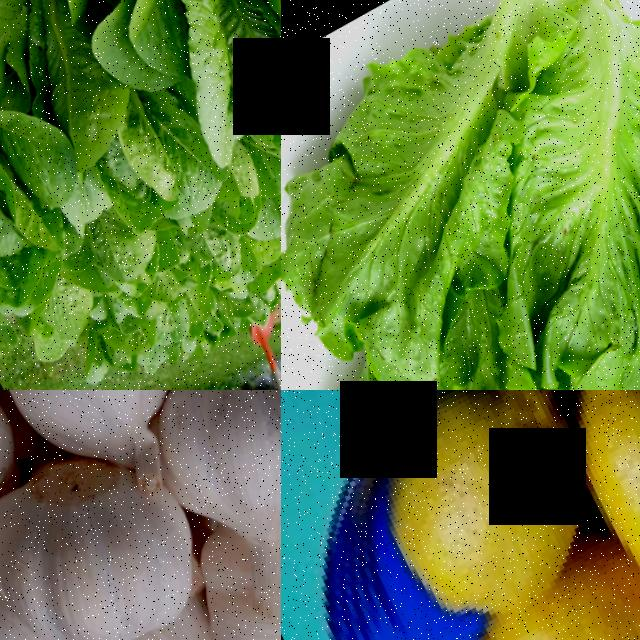garlic: (0, 433, 226, 640), (149, 390, 281, 593), (0, 390, 204, 486), (178, 518, 281, 640)
lemon: (352, 390, 632, 640), (546, 390, 640, 640), (461, 540, 640, 640)
lettuce: (281, 0, 640, 390), (85, 0, 281, 220), (0, 54, 135, 353), (163, 183, 281, 338)
